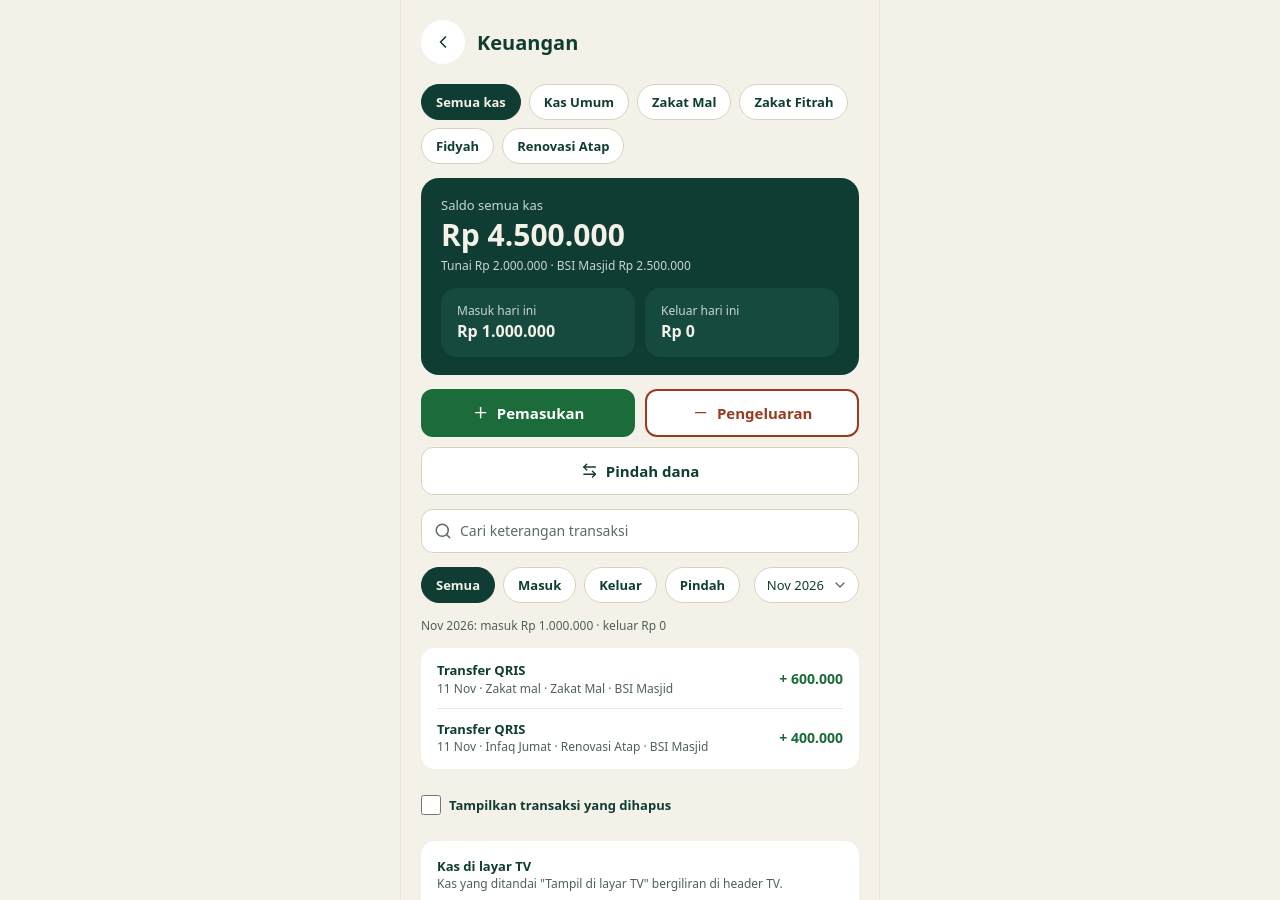
it: FinancePage › deletes a split as a whole, only with a reason
Click the 1st text "Transfer QRIS" at (481, 670), box [437, 662, 526, 680]
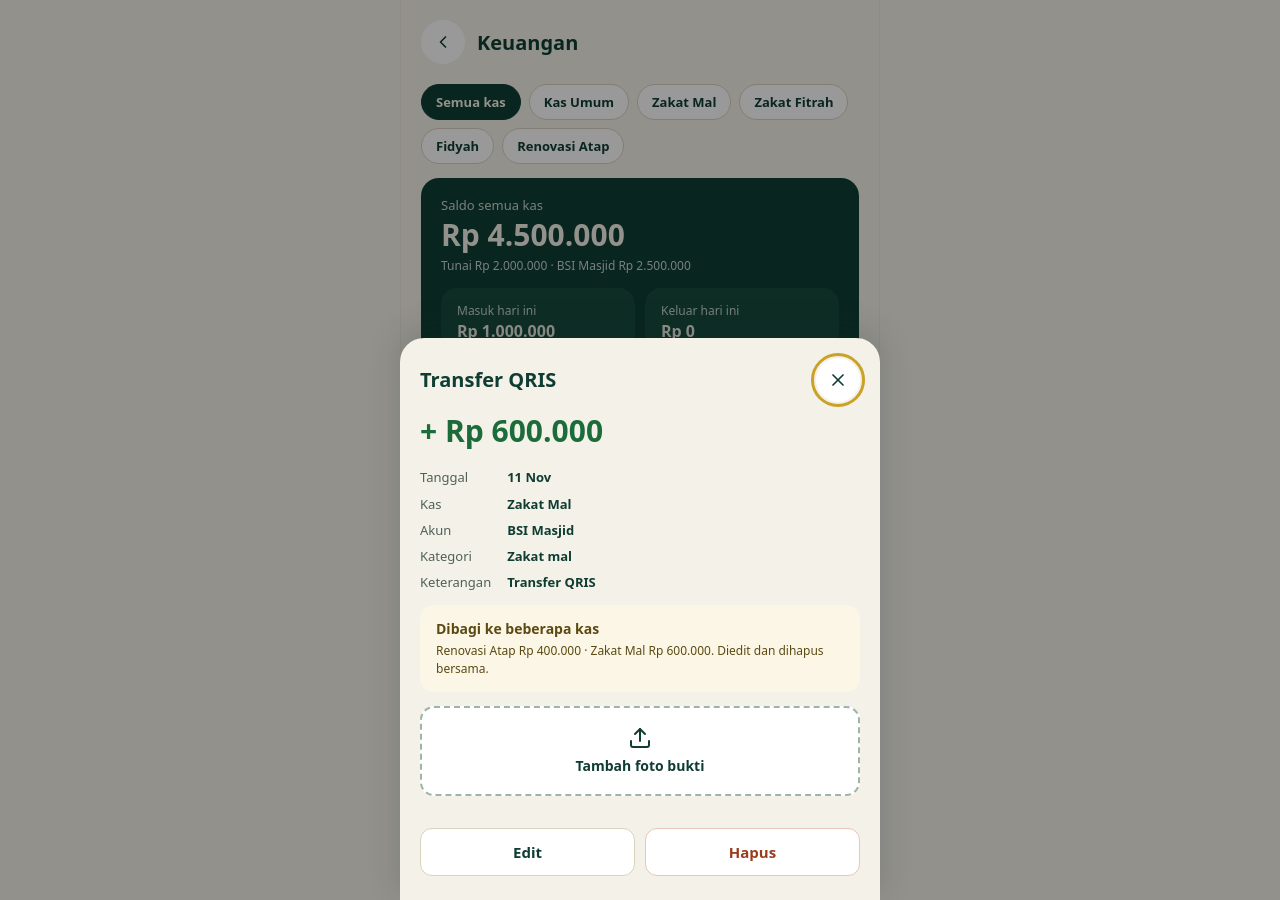
Expected: the text "Dibagi ke beberapa kas" is shown, [436, 619, 599, 638]
Click the button "Hapus" at (752, 852), box [645, 828, 860, 876]
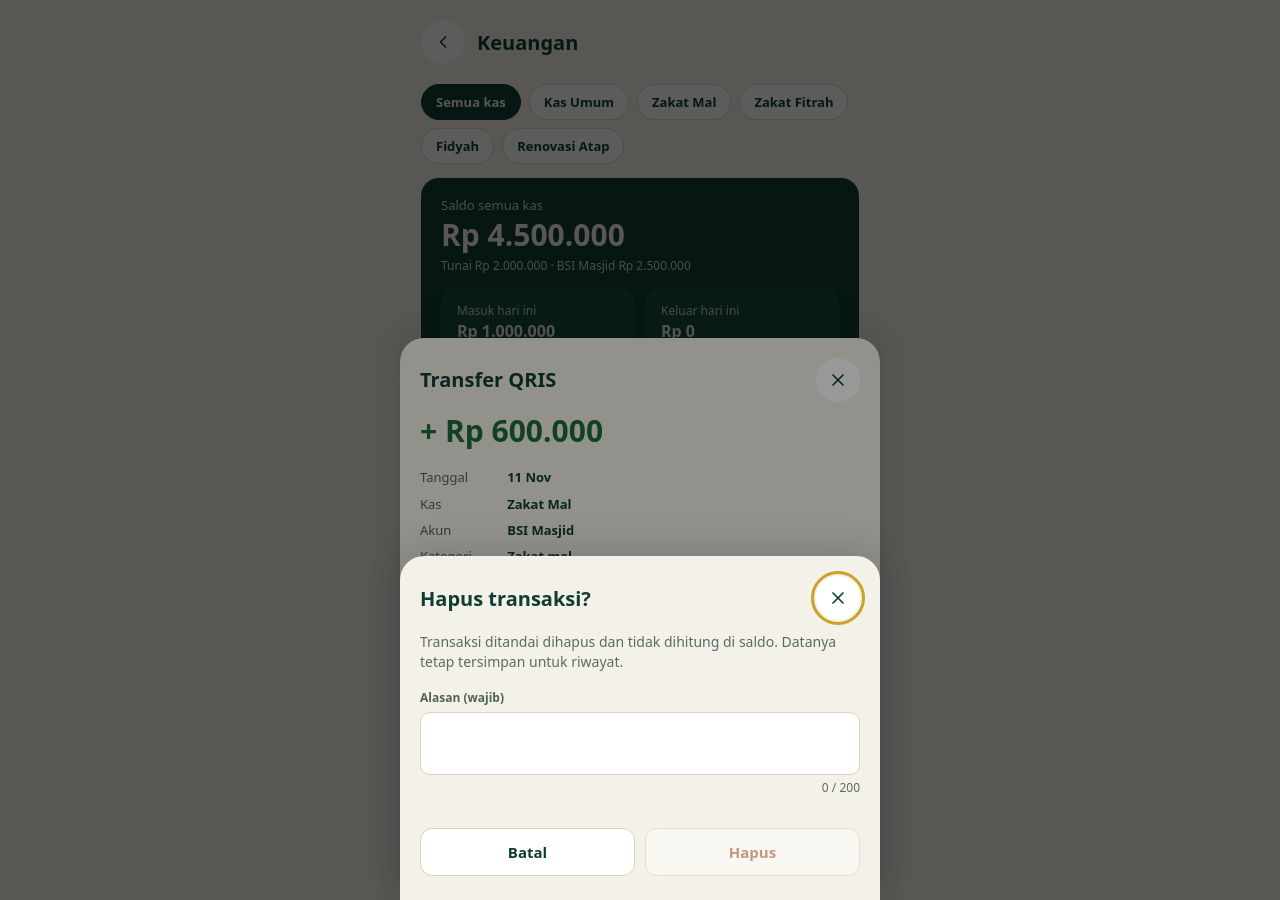
Expected: the button "Hapus" is disabled, [645, 828, 860, 876]
Type "Salah input" into the text box at (640, 743), box [420, 712, 860, 775]
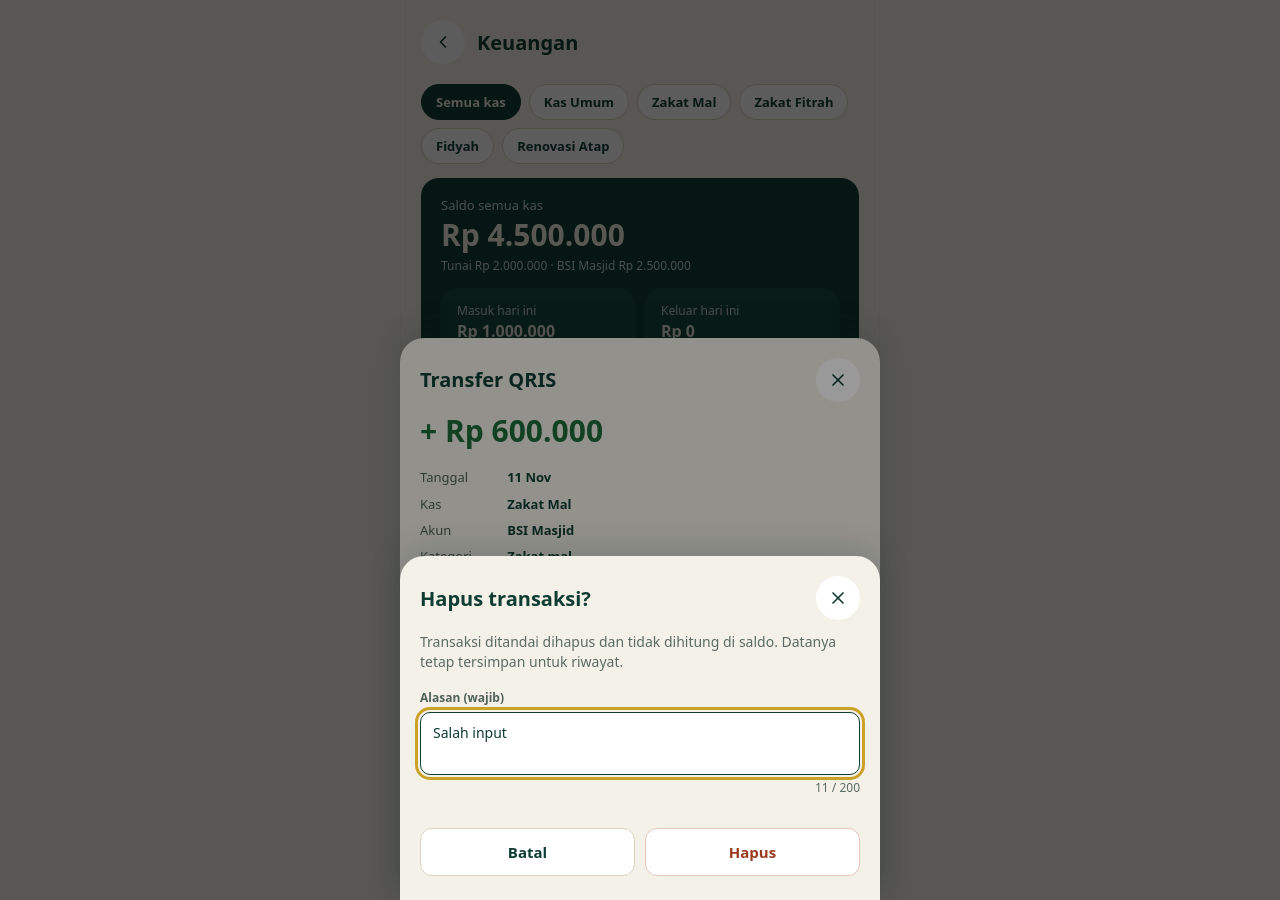
Click the button "Hapus" at (752, 852), box [645, 828, 860, 876]
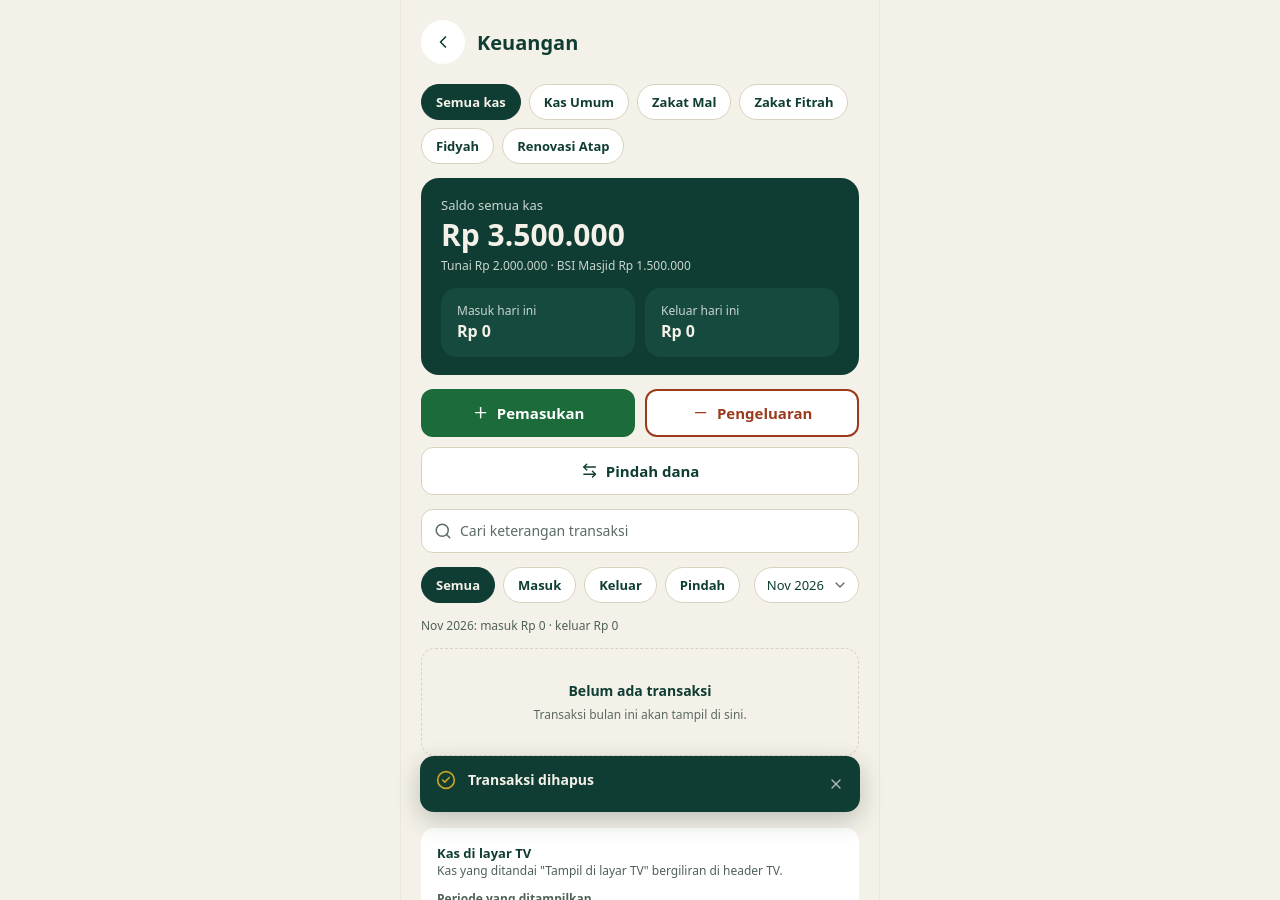
Expected: the text "Transaksi dihapus" is shown, [468, 770, 594, 789]
